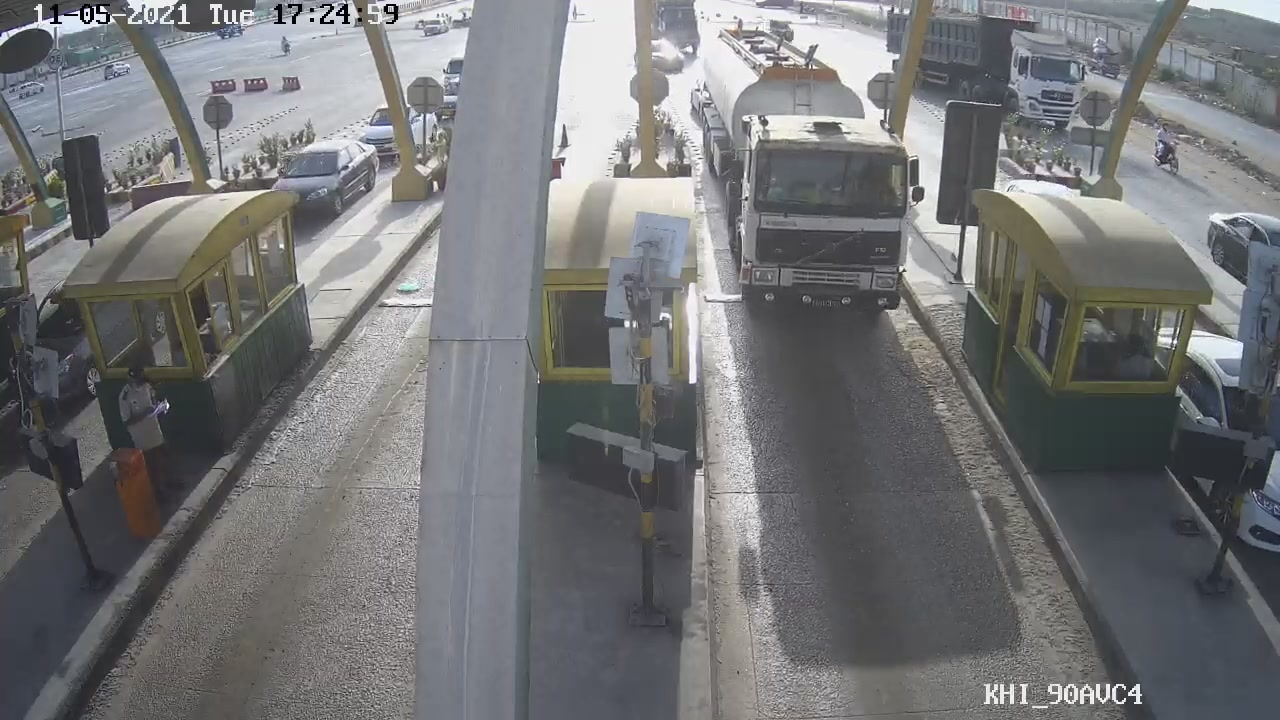F6: (702, 15, 929, 321)
